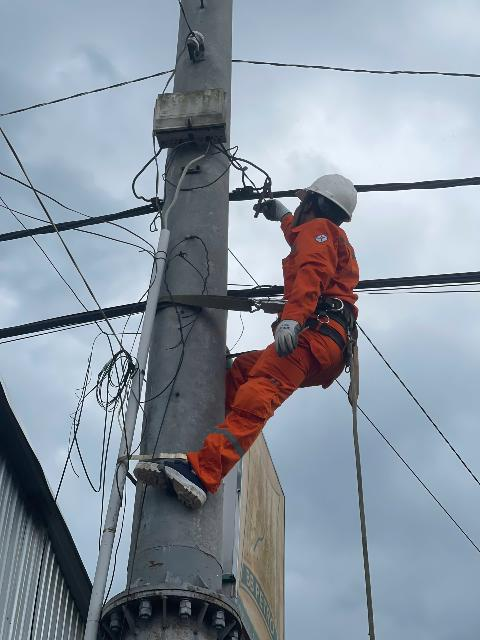gloves: (249, 188, 292, 225), (270, 309, 304, 353)
harness: (283, 284, 358, 339)
helmet: (298, 170, 368, 226)
shoes: (116, 447, 204, 510)
